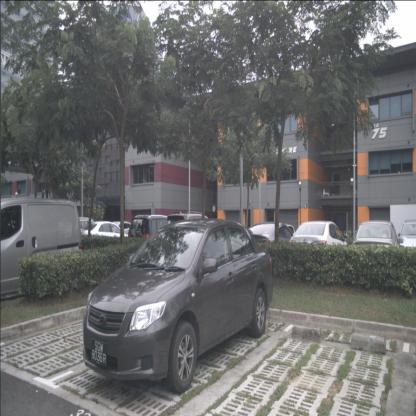vehicle-car: (82, 218, 274, 394), (0, 196, 83, 304), (288, 221, 350, 270), (242, 222, 300, 268), (352, 220, 400, 273), (164, 214, 219, 256), (127, 214, 178, 252), (80, 220, 132, 253), (64, 218, 96, 247), (398, 217, 415, 266), (108, 221, 134, 243)
